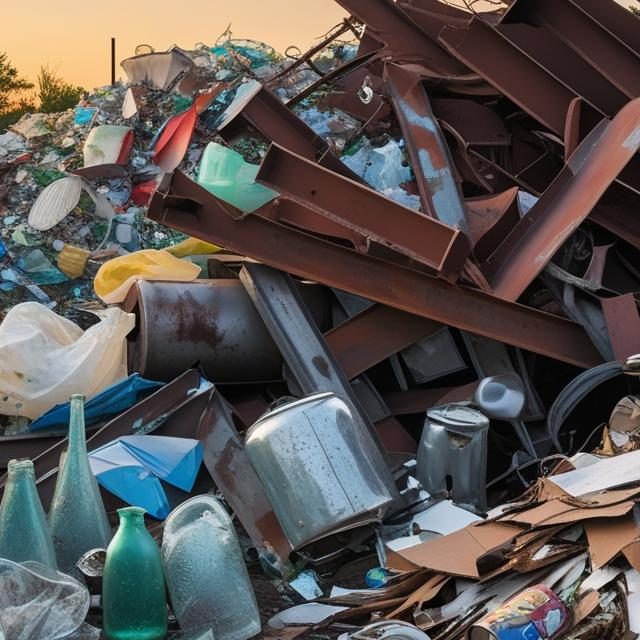metal: (421, 393, 489, 512)
plastic: (0, 290, 129, 408)
